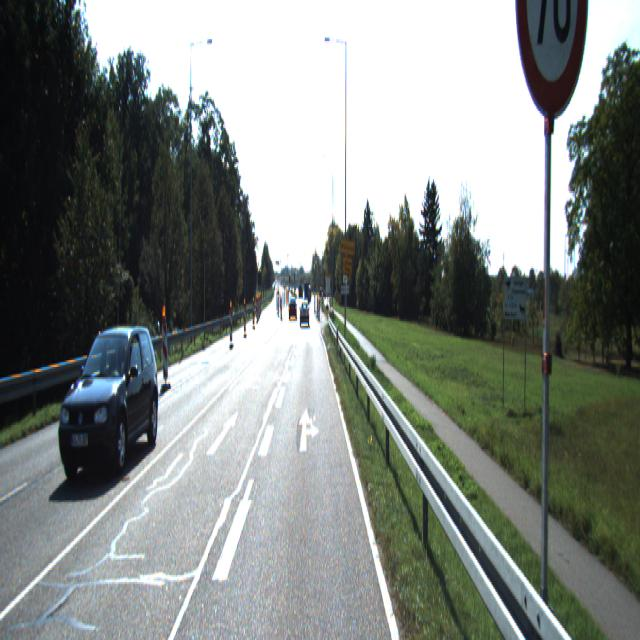Car: (58, 319, 160, 483), (300, 299, 310, 324)
